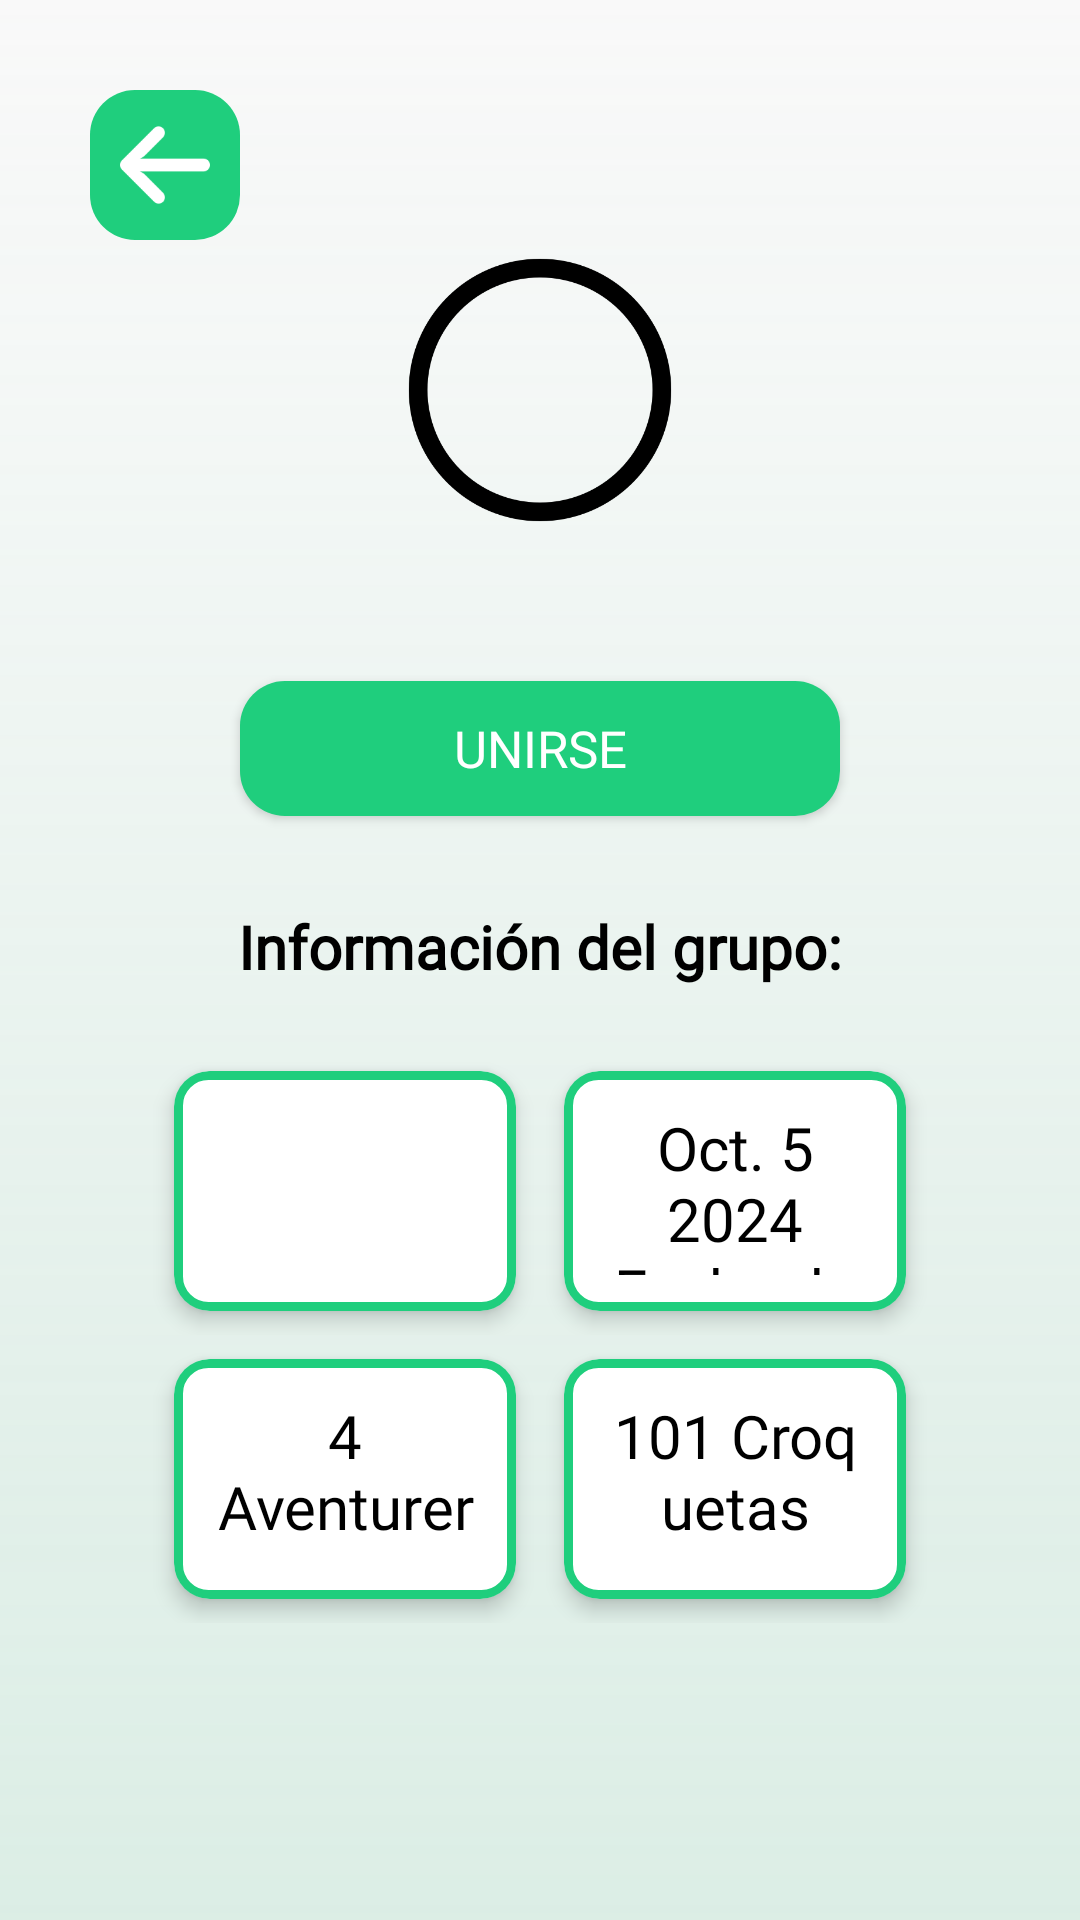

Icon bounding boxes for this 1080×1920 phone screenshot, format [x1,y1,x2,y2]:
flecha izquierda: [90,90,240,240]
